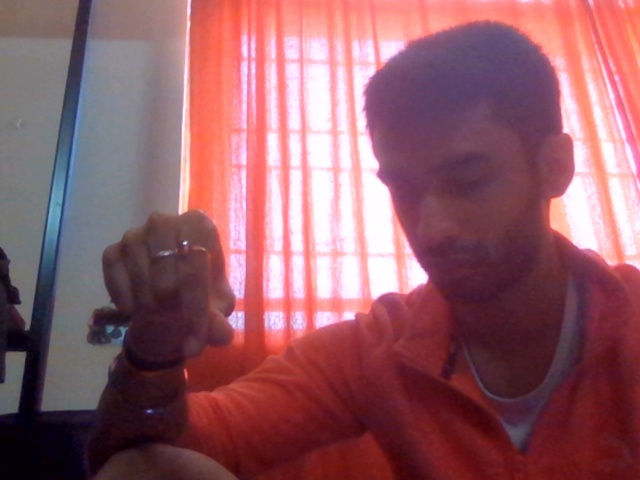Q: (86, 204, 255, 395)
